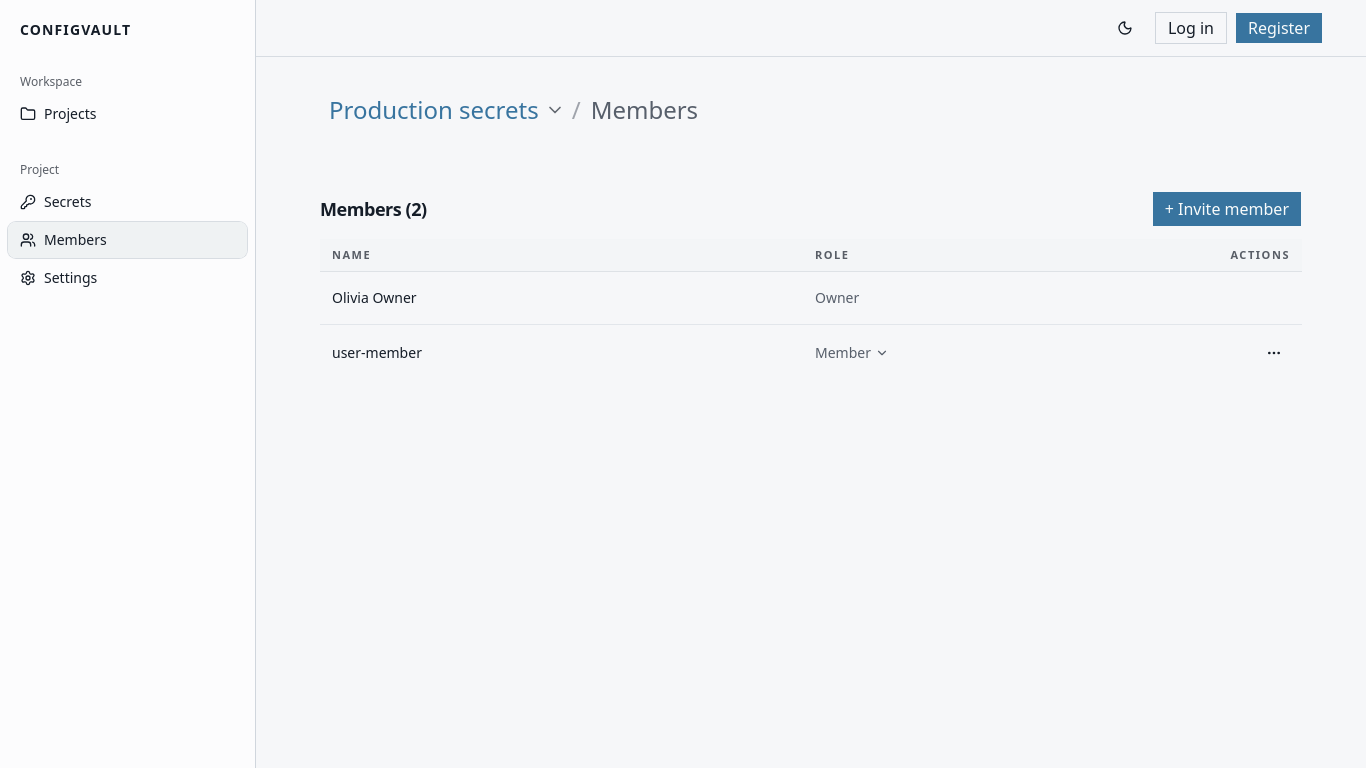
ProjectDetailPage › opens and cancels the remove member confirmation
Click the button named "Member actions for user-member". click: (1274, 353)
box: 1258,337 -> 1290,369
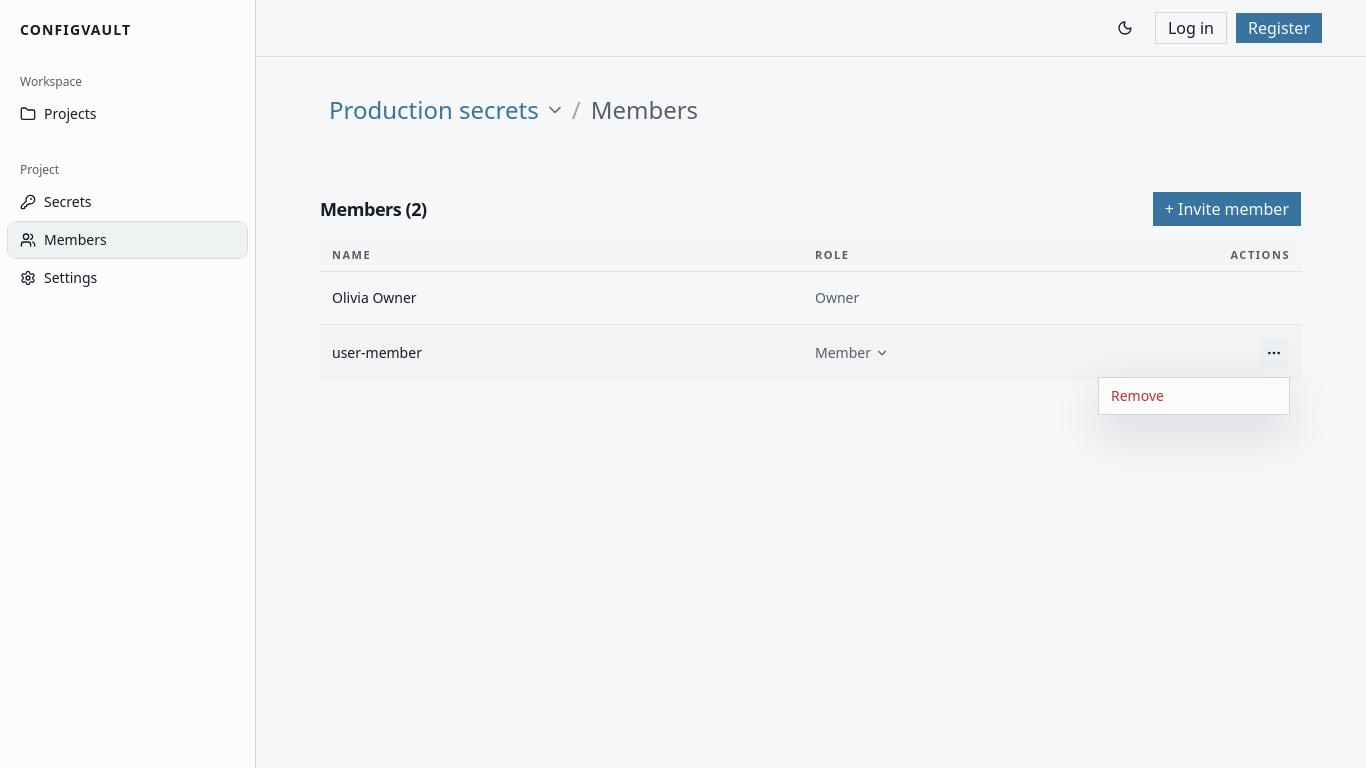
Click the menu item "Remove". click: (1137, 396)
box: 1111,386 -> 1164,405
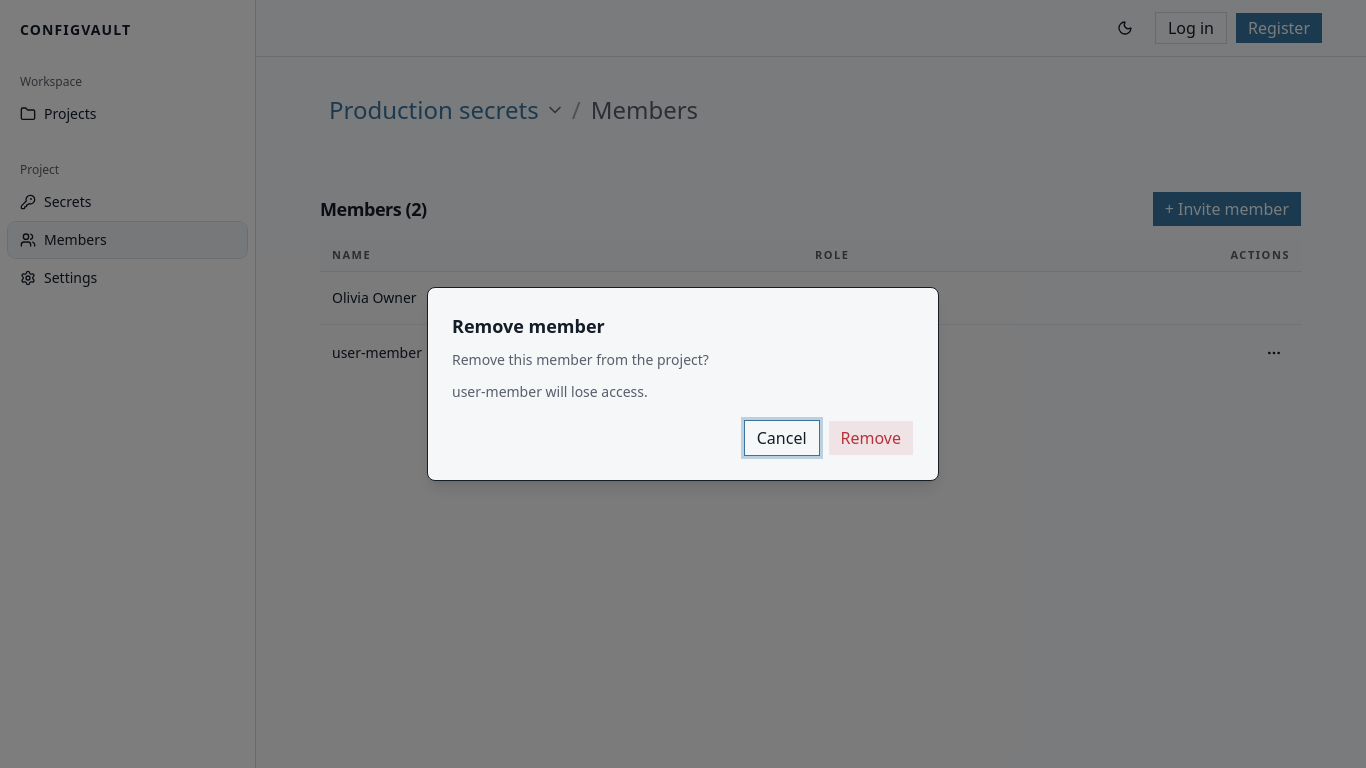
Expected: the text "Remove this member from the project?" is shown, 452,350 -> 709,369
Click the button "Cancel". click: (782, 438)
box: 744,420 -> 820,456
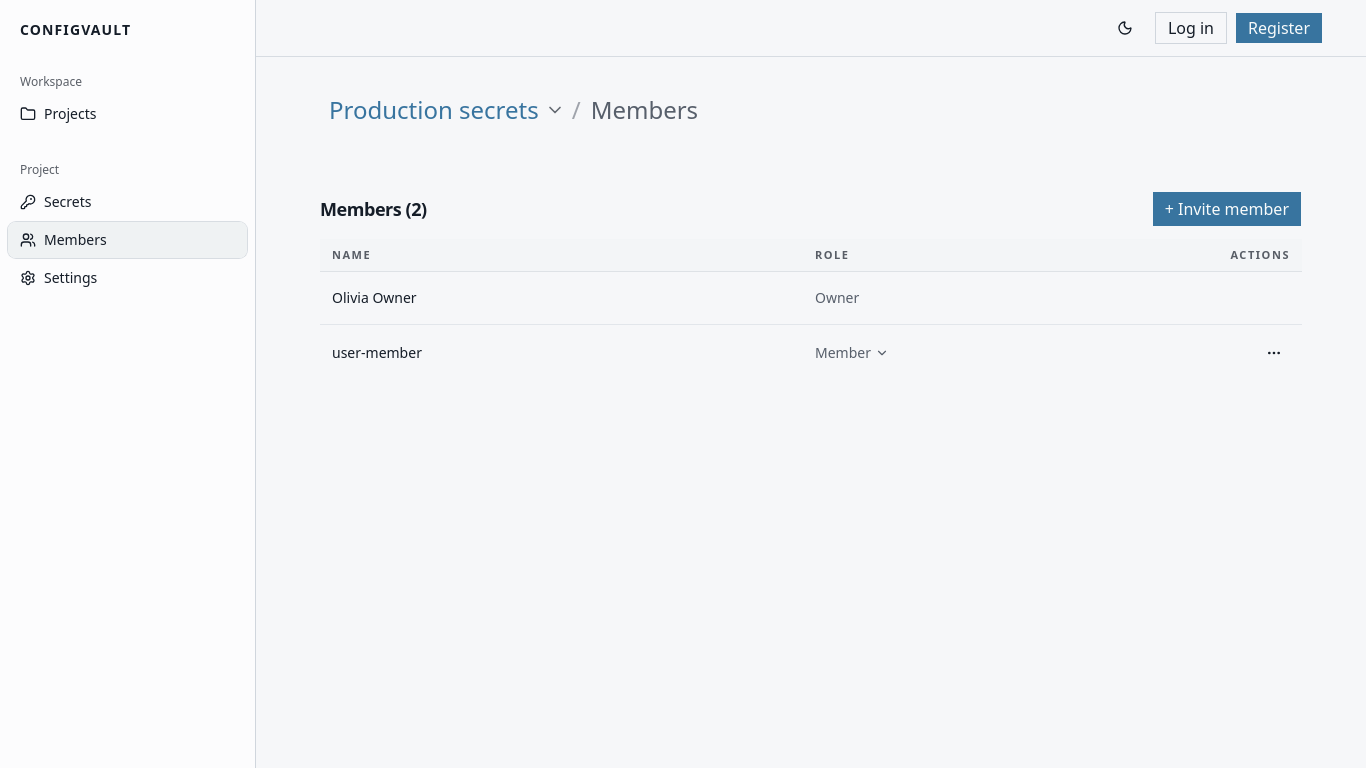
Expected: the heading "Remove member" is gone
